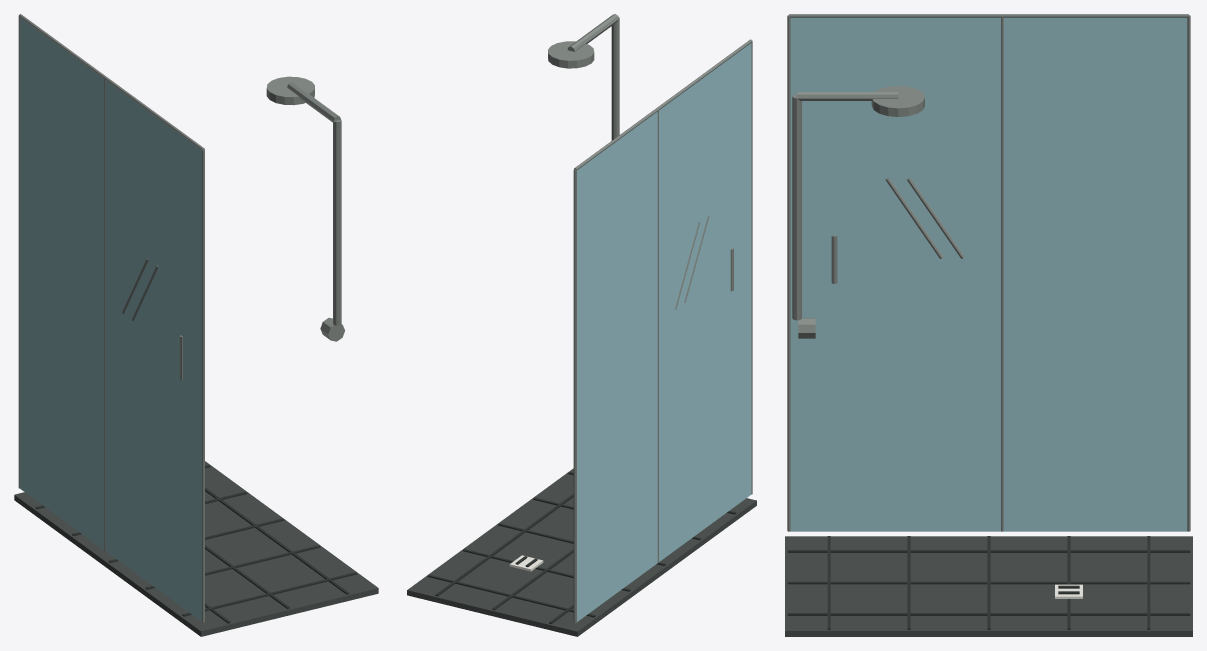
File: bath-shower.glb
The picture shows the model from 3 angles, left to right: view 1: azimuth 30°, elevation 25°; view 2: azimuth 150°, elevation 25°; view 3: azimuth 270°, elevation 25°; orthographic projection. The views are drawn at different scales.
Parts seen in each view (by area): view 1: bath-shower; view 2: bath-shower; view 3: bath-shower.
Part boxes in pixels (<box>): bath-shower: <box>14,14,378,636</box>; bath-shower: <box>407,14,756,636</box>; bath-shower: <box>785,14,1192,636</box>.
Bounding box in the file's own units: 0.84 × 2.2 × 1.53.
